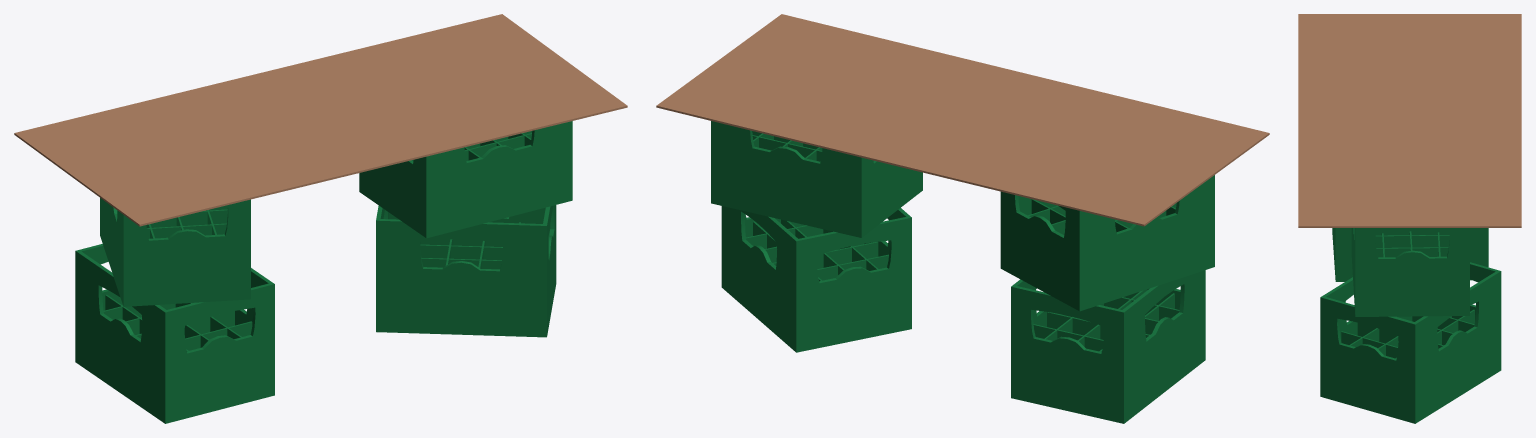
File: Stol.fbx
3 views of the same model, side by side, from view 1: azimuth 30°, elevation 25°; view 2: azimuth 150°, elevation 25°; view 3: azimuth 270°, elevation 25° (orthographic). The views are drawn at different scales.
Visible parts, largest first — view 1: skrzykI_LOD0, Balt_LOD0; view 2: skrzykI_LOD0, Balt_LOD0; view 3: Balt_LOD0, skrzykI_LOD0.
Part boxes in pixels (box(x1,y1,x2,y2)): skrzykI_LOD0: box(75, 121, 572, 423); Balt_LOD0: box(14, 14, 627, 226); skrzykI_LOD0: box(711, 121, 1214, 423); Balt_LOD0: box(656, 14, 1269, 226); Balt_LOD0: box(1298, 14, 1521, 227); skrzykI_LOD0: box(1320, 228, 1501, 423).
Size of what is drawn, in the model's own units: 194 by 85.04 by 86.17.
